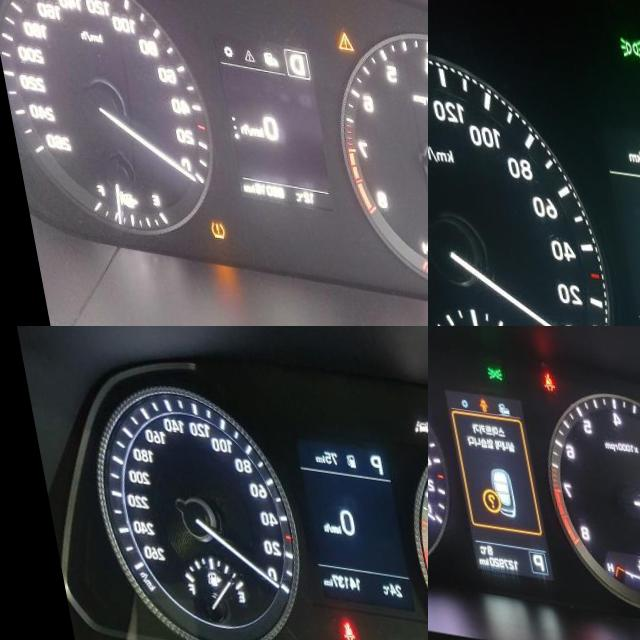LaneCenteringOff: (405, 406, 426, 423)
SideLamp: (617, 26, 640, 49), (477, 354, 495, 372)
